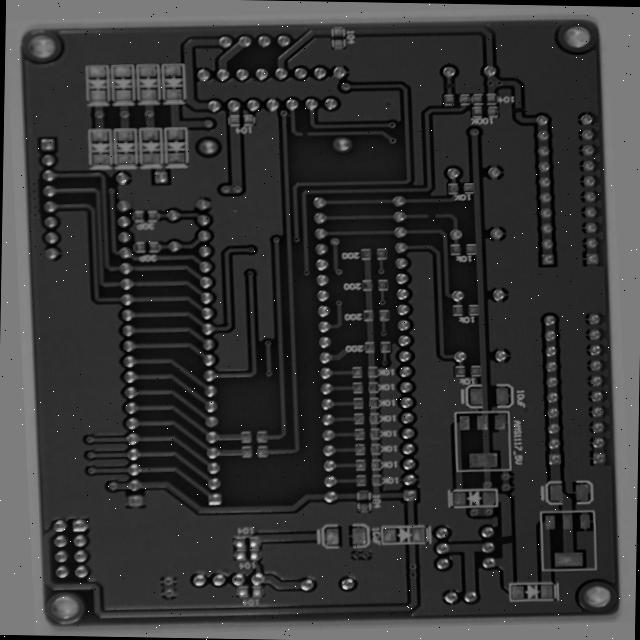open_circuit: (494, 547, 510, 563), (440, 209, 452, 221), (539, 105, 551, 117), (309, 121, 323, 129), (468, 76, 478, 87)
